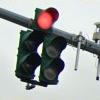traffic lights: (15, 29, 42, 81), (43, 33, 68, 88), (36, 8, 60, 31)
